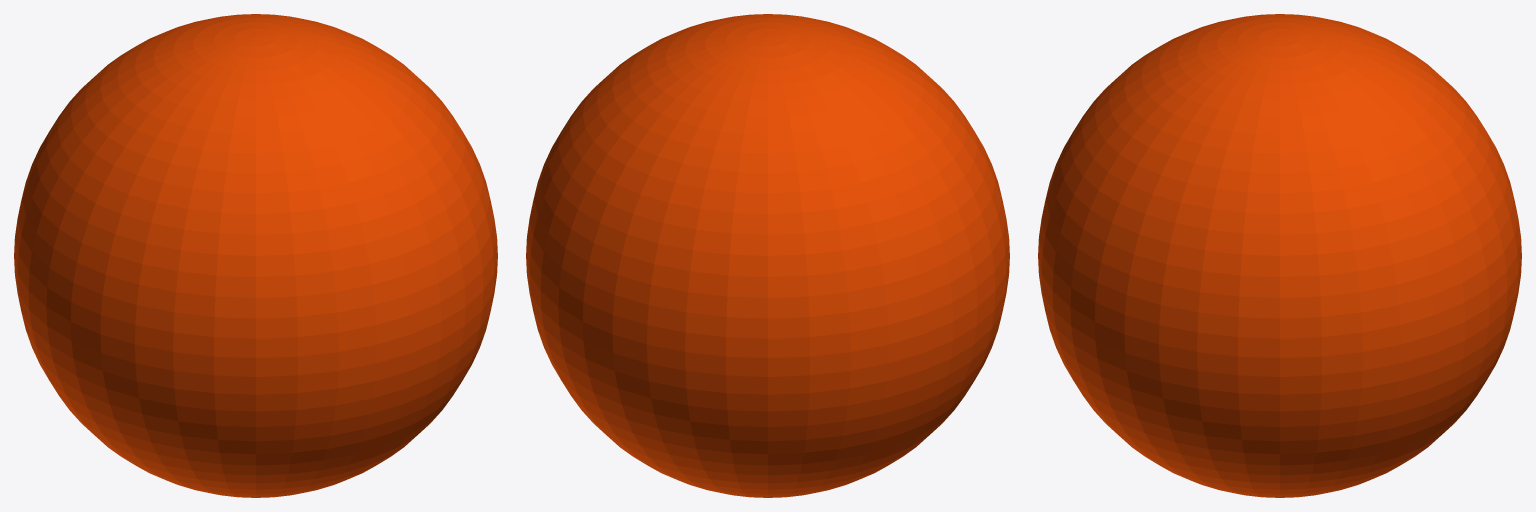
File: CieloNaranja.fbx
The picture shows the model from 3 angles, left to right: view 1: azimuth 30°, elevation 25°; view 2: azimuth 150°, elevation 25°; view 3: azimuth 270°, elevation 25°; orthographic projection.
Parts seen in each view (by area): view 1: Sphere; view 2: Sphere; view 3: Sphere.
Part boxes in pixels (x1=…): Sphere: x1=14, y1=14, x2=497, y2=497; Sphere: x1=526, y1=14, x2=1009, y2=497; Sphere: x1=1038, y1=14, x2=1521, y2=497.
Size of the model in its own units: 2 by 2 by 2.
